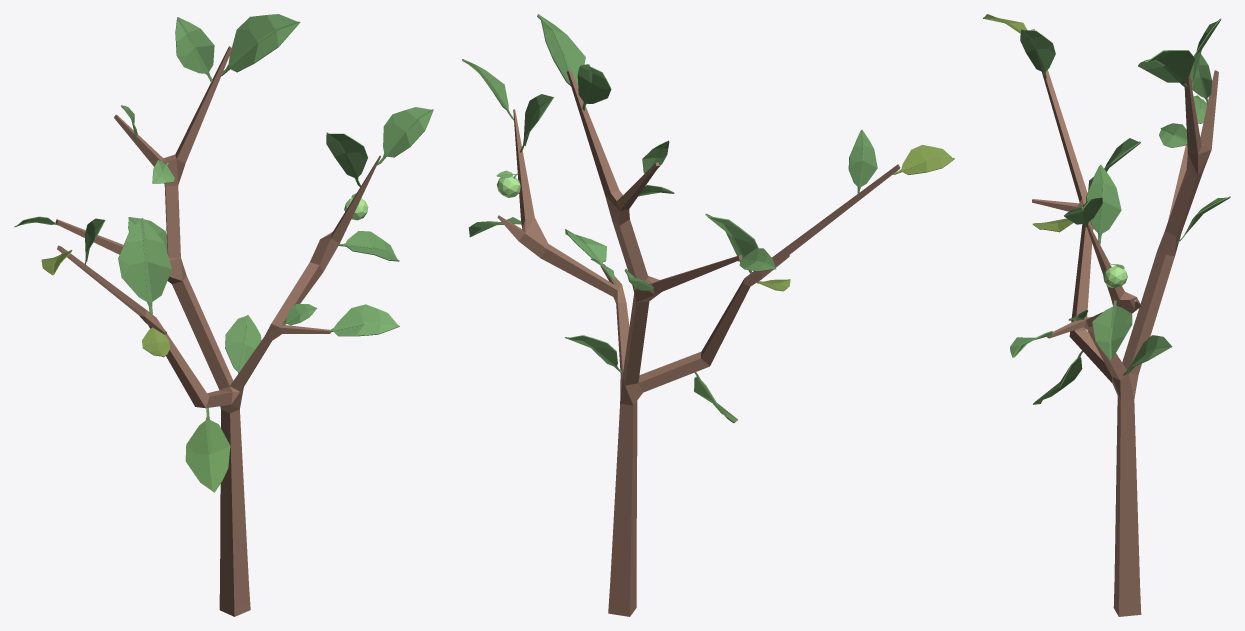
File: JerukTahap1.fbx
3 renders of one model, left to right at view 1: azimuth 30°, elevation 25°; view 2: azimuth 150°, elevation 25°; view 3: azimuth 270°, elevation 25°, orthographic. The views are drawn at different scales.
Visible parts, largest first — view 1: jeruk1.002; view 2: jeruk1.002; view 3: jeruk1.002.
Part boxes in pixels (x1,y1,x2,y2): jeruk1.002: [14, 14, 433, 616]; jeruk1.002: [462, 14, 954, 616]; jeruk1.002: [983, 14, 1230, 616].
Bounding box in the file's own units: 31.96 × 40.51 × 15.37.
